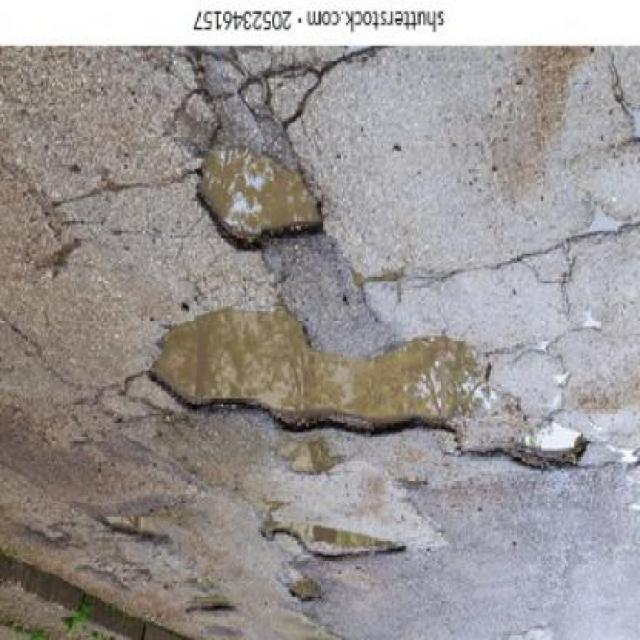Pothole: (138, 300, 598, 477), (191, 112, 333, 252), (258, 513, 412, 568), (98, 504, 188, 548), (282, 574, 328, 608)
